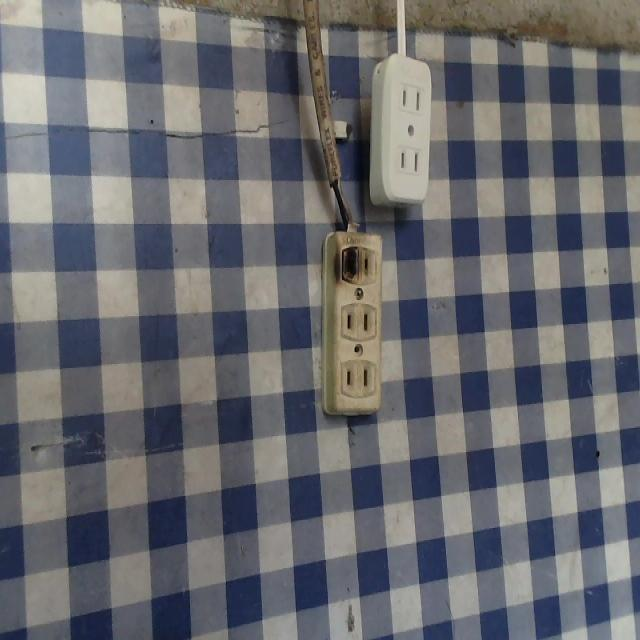-: (323, 236, 361, 293)
